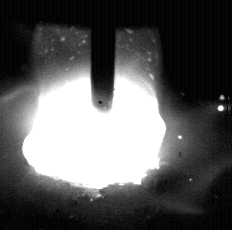arame: (91, 0, 115, 113)
poca: (23, 0, 163, 230)
